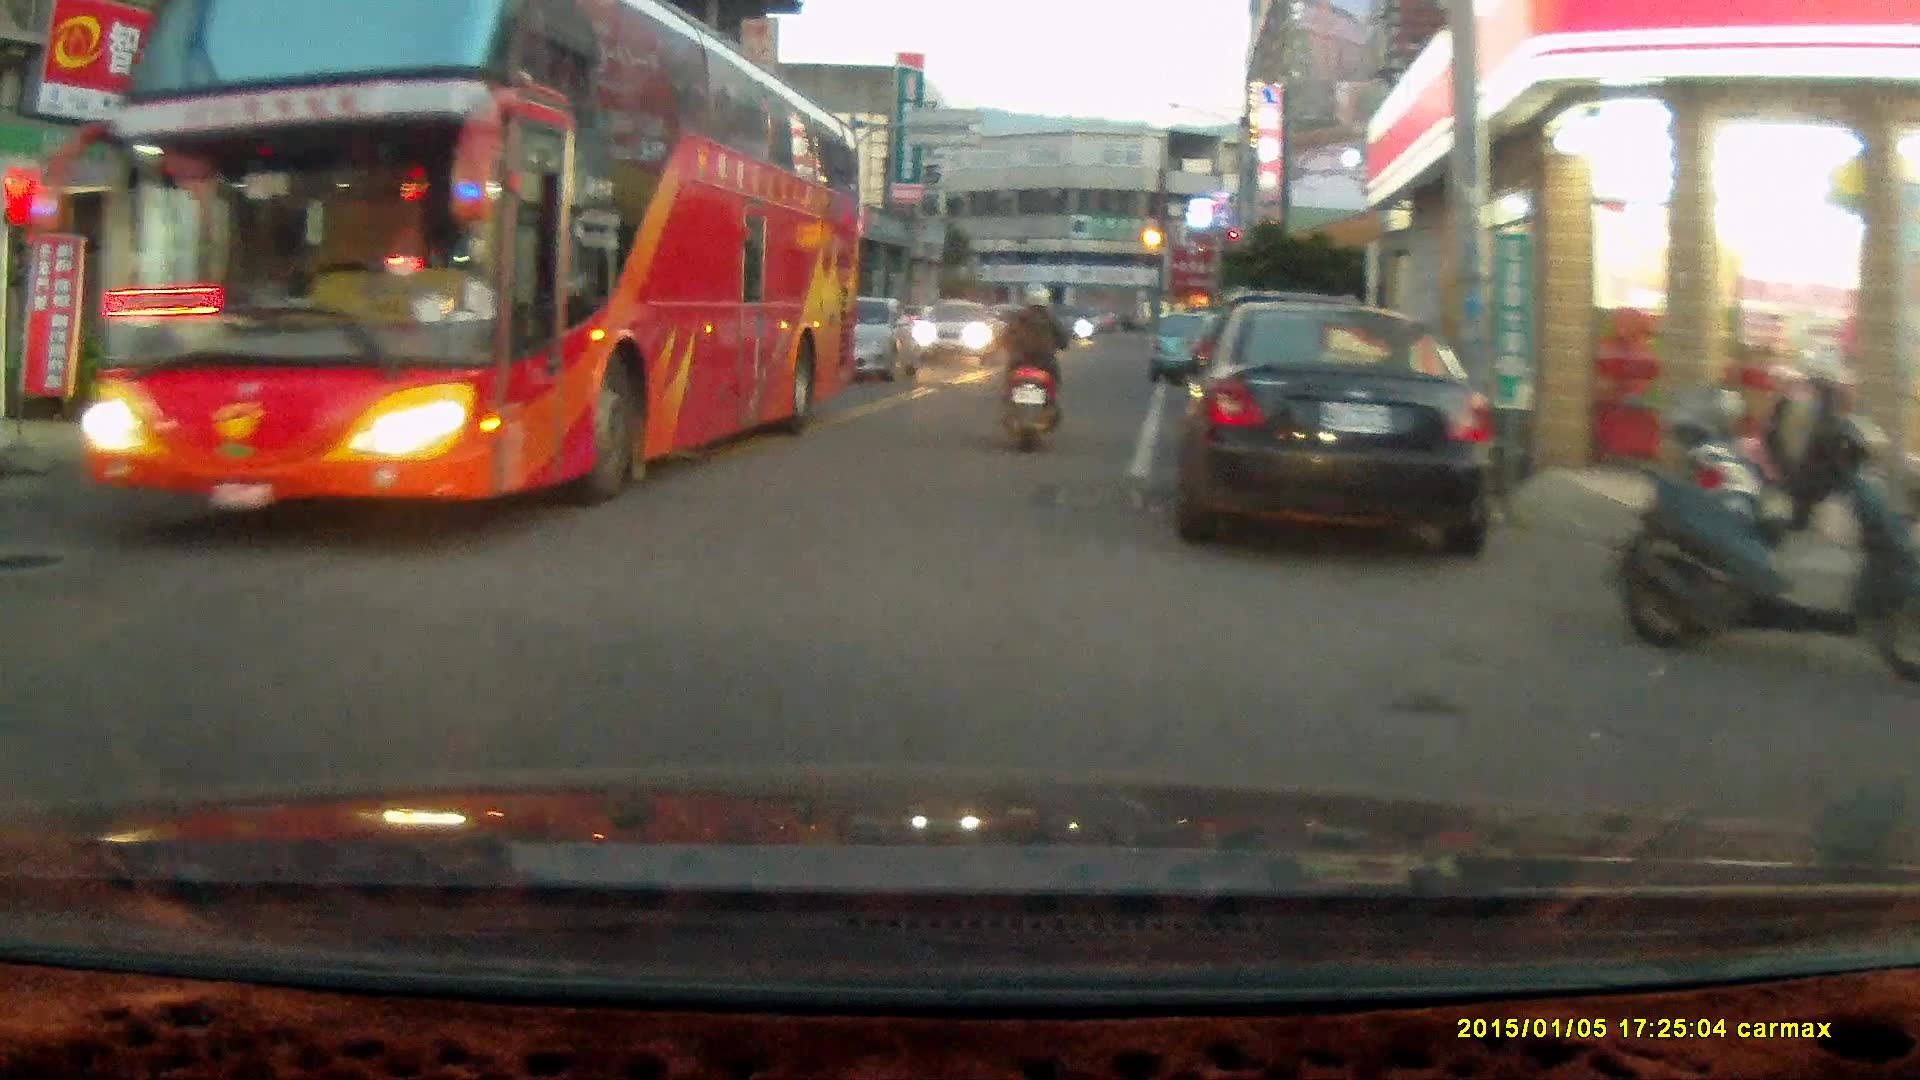rider: (994, 280, 1069, 453)
vehicle: (101, 9, 868, 524), (1154, 297, 1497, 559), (809, 294, 917, 383), (906, 298, 1003, 367), (1149, 314, 1230, 387)
